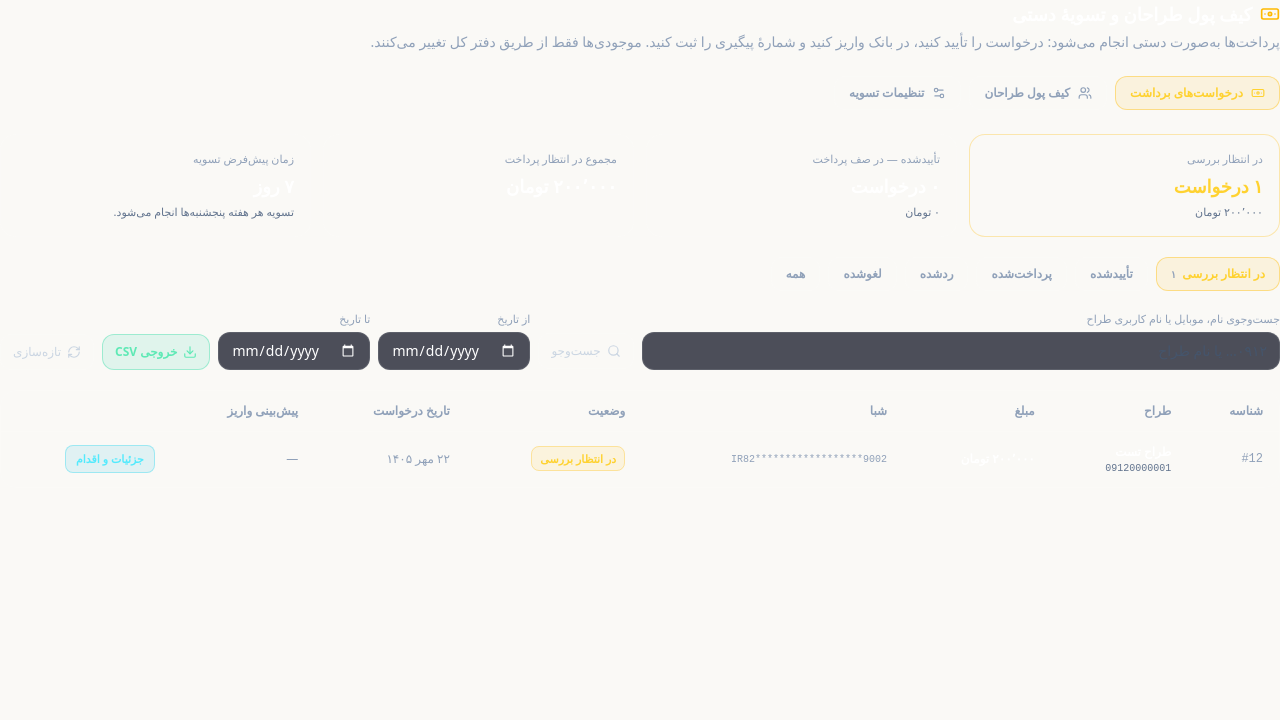
Test: AdminWalletTab — payout queue › offers no action buttons for a terminal request
Click the button "جزئیات و اقدام" at (110, 459), box 65,445 -> 155,474
(page scrolled)
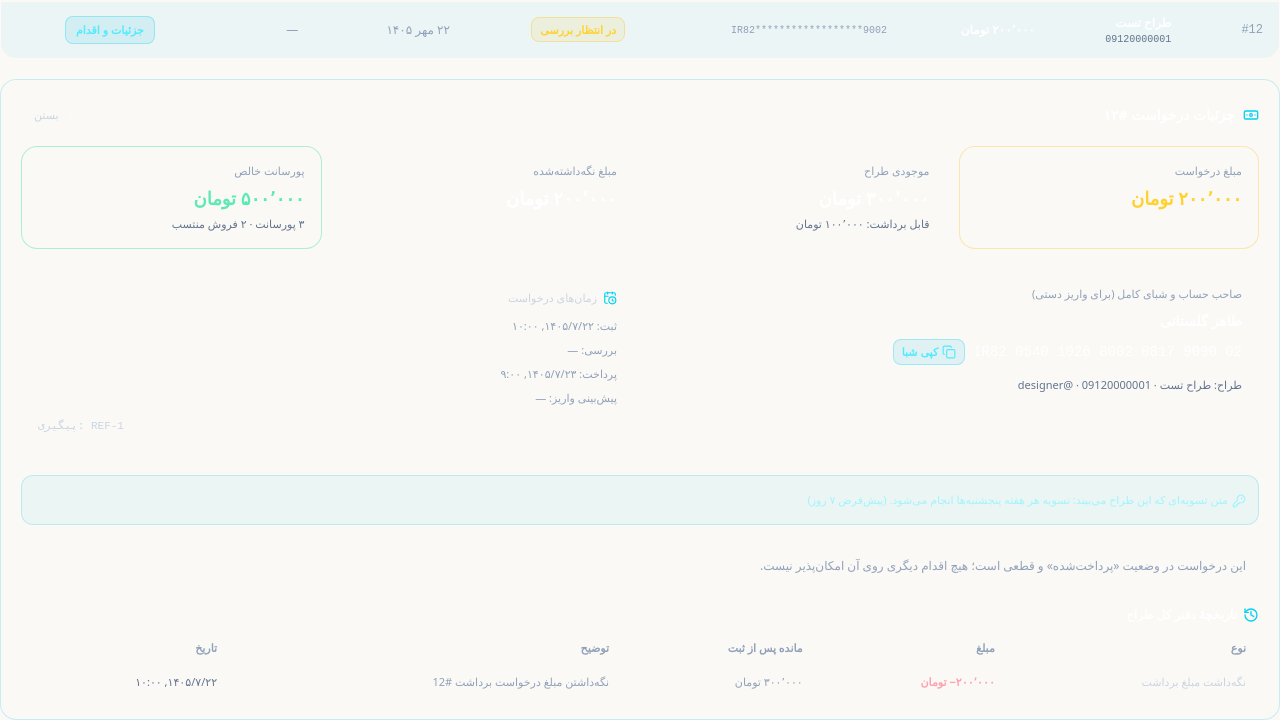
Now the heading "جزئیات درخواست #۱۲" is shown, box 1103,105 -> 1259,125
Now the text "قطعی است" is shown, box 760,557 -> 1053,574
